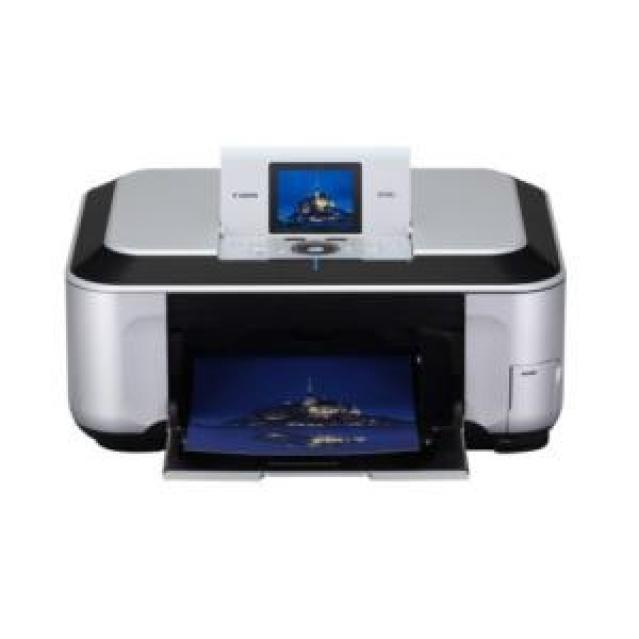Printer: (66, 146, 565, 479)
